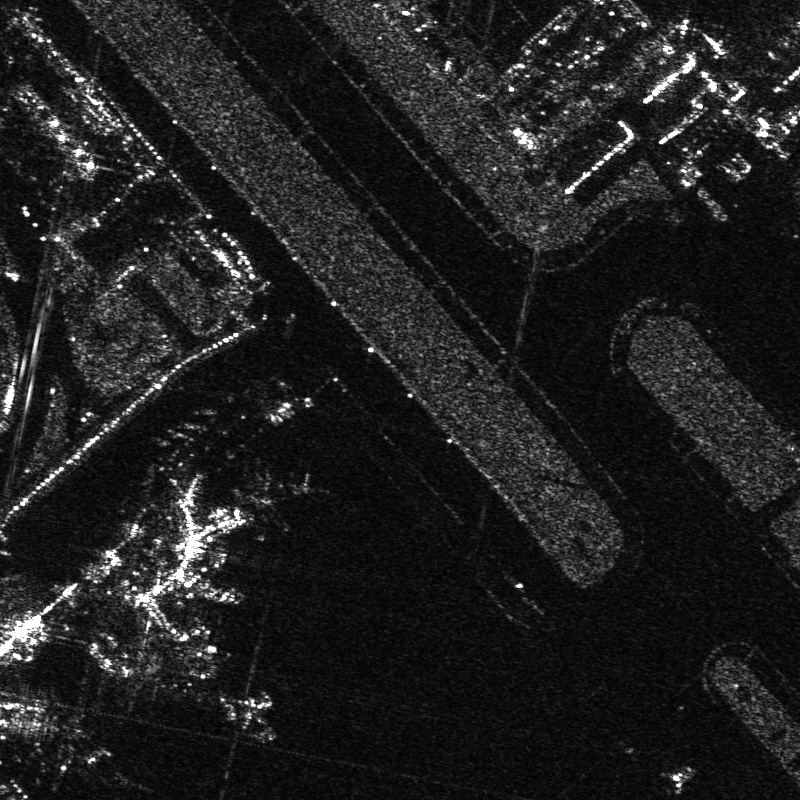Boeing737: (221, 685, 287, 746)
